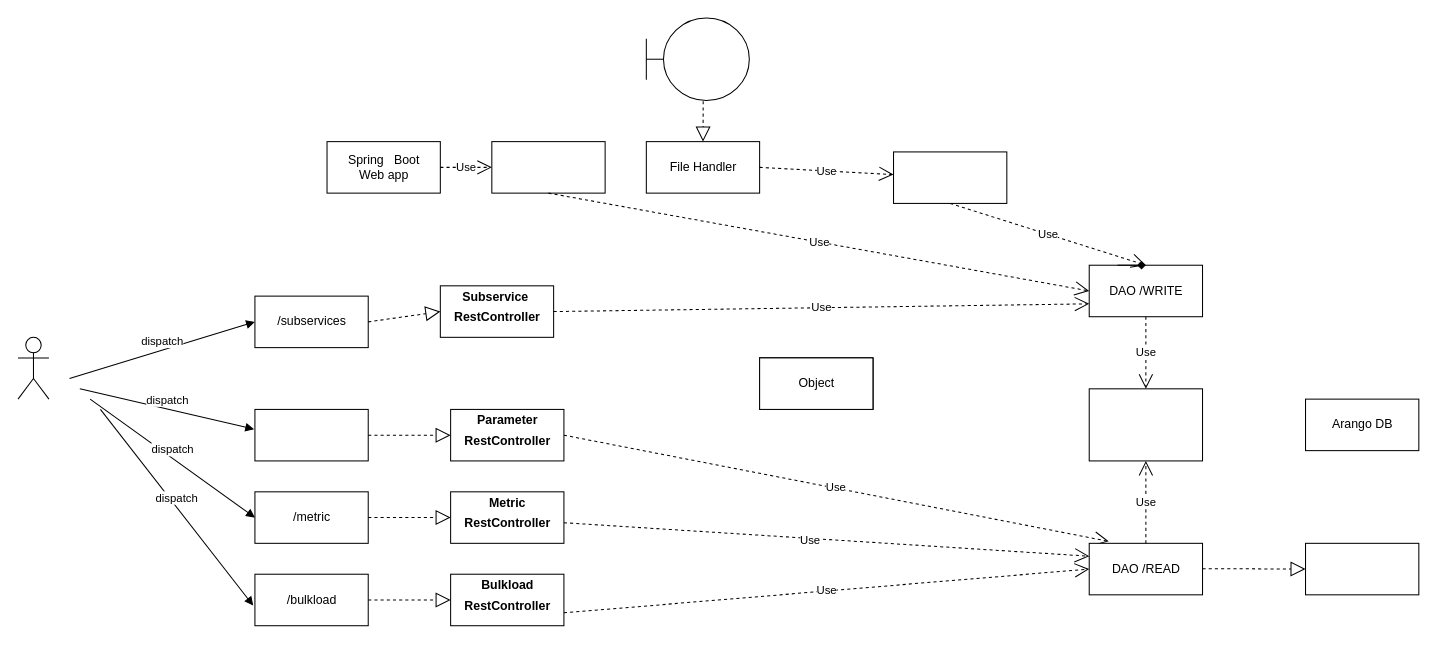
Image size: 1437x646. Some labels were removed from this diagram. Here are the shapes that lost their labels. From the top down, the box of each, then its label:
(645, 17, 749, 100): Knowledge
(491, 141, 605, 193): Information CycleManager
(892, 151, 1007, 203): Arango Loader API
(17, 336, 49, 399): Actor
(254, 408, 368, 461): /parameter
(1088, 388, 1203, 461): DB Proxy
(1304, 542, 1419, 595): QUERY
